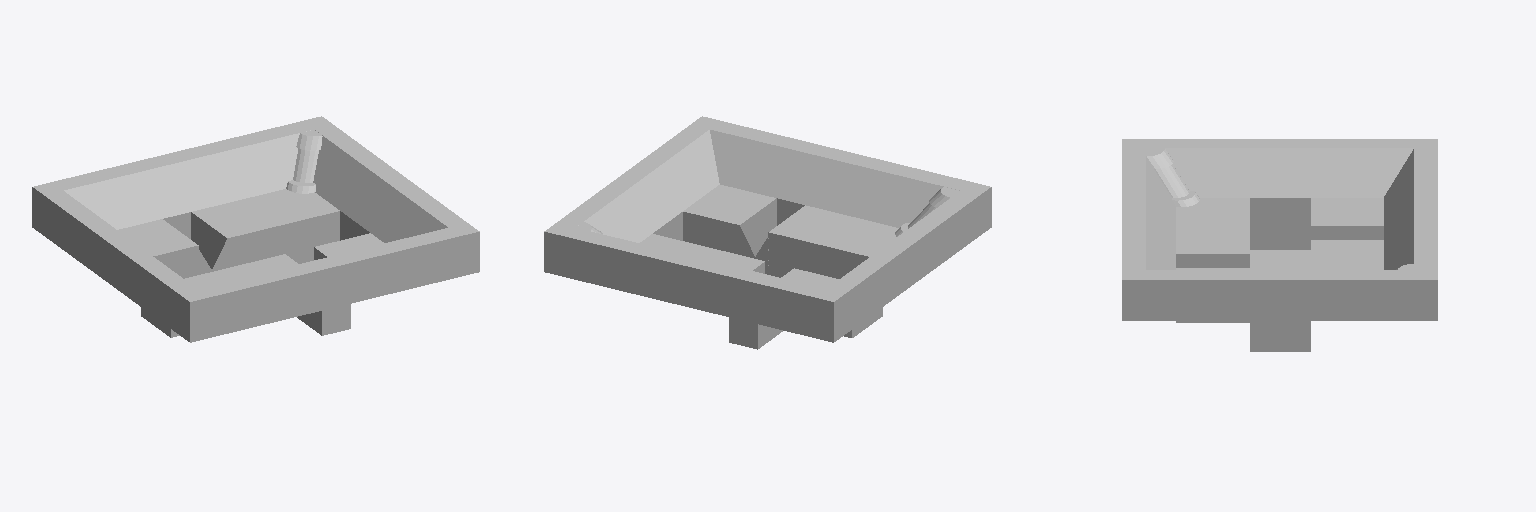
File: lvl_4.obj
The picture shows the model from 3 angles: view 1: azimuth 30°, elevation 25°; view 2: azimuth 150°, elevation 25°; view 3: azimuth 270°, elevation 25°; orthographic projection.
Parts seen in each view (by area): view 1: lvl4; view 2: lvl4; view 3: lvl4.
Part boxes in pixels (x1,y1,x2,y2): lvl4: (32, 116, 479, 342); lvl4: (544, 116, 991, 349); lvl4: (1122, 139, 1437, 351).
Size of the model in its own units: 13.36 by 4.13 by 12.6.